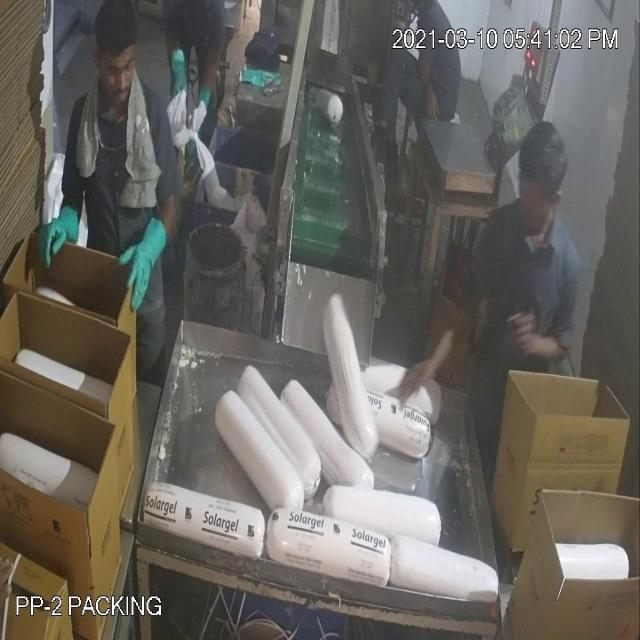gloves: (114, 208, 180, 336), (29, 180, 87, 278)
no-gloves: (377, 301, 483, 419), (506, 308, 571, 387)
